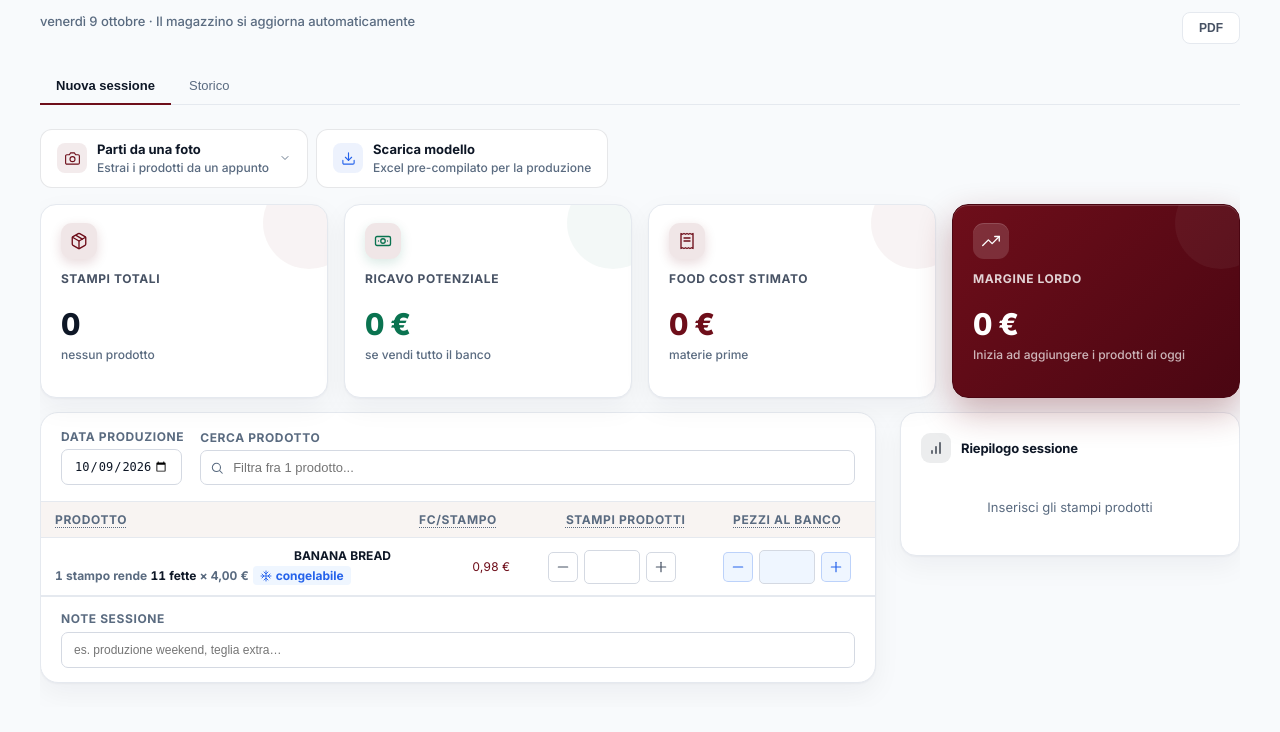
Scenario: i comandi dello storico: Modifica ed Elimina › sul computer restano compatti
Click the button "Storico". click: (209, 86)
box: [173,68,246,105]
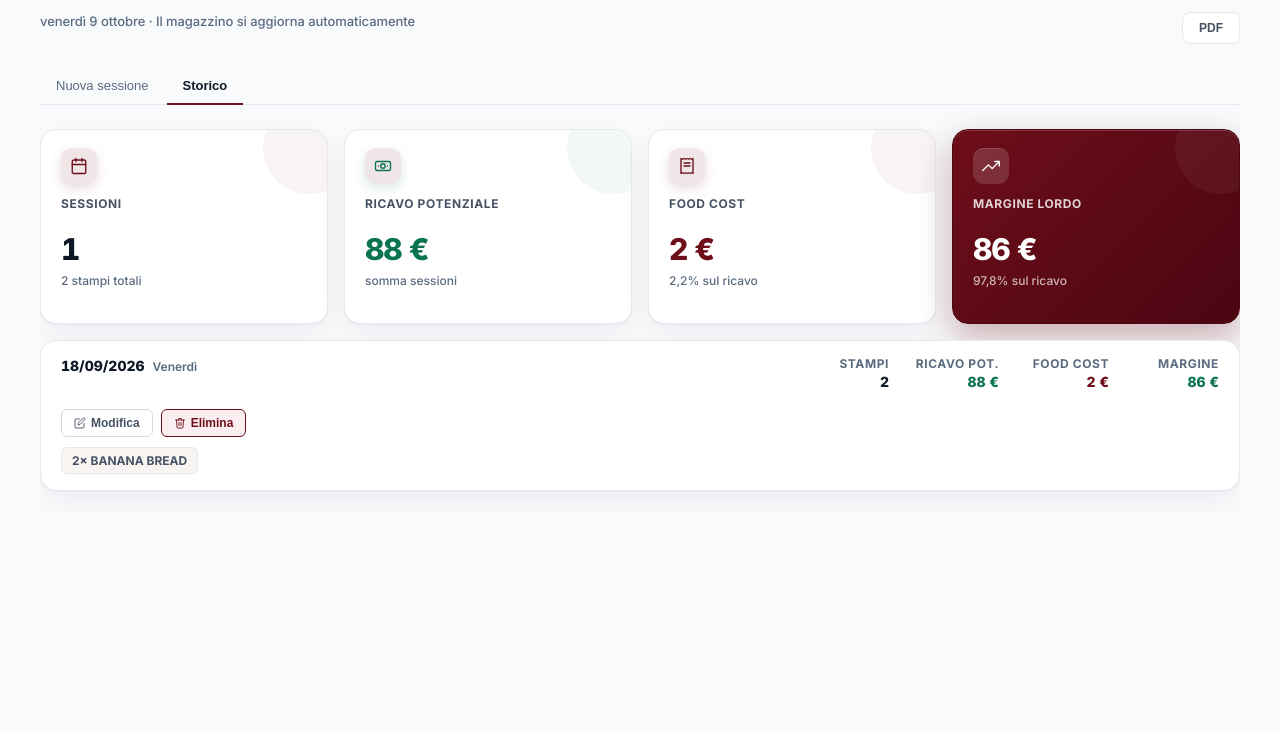
Result: the text "Sessioni" is shown at [61,196,122,211]
